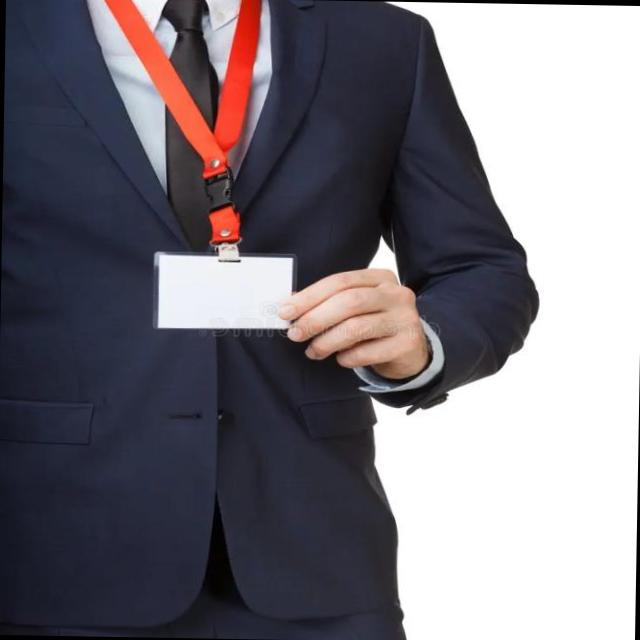id_card: (90, 0, 299, 333)
